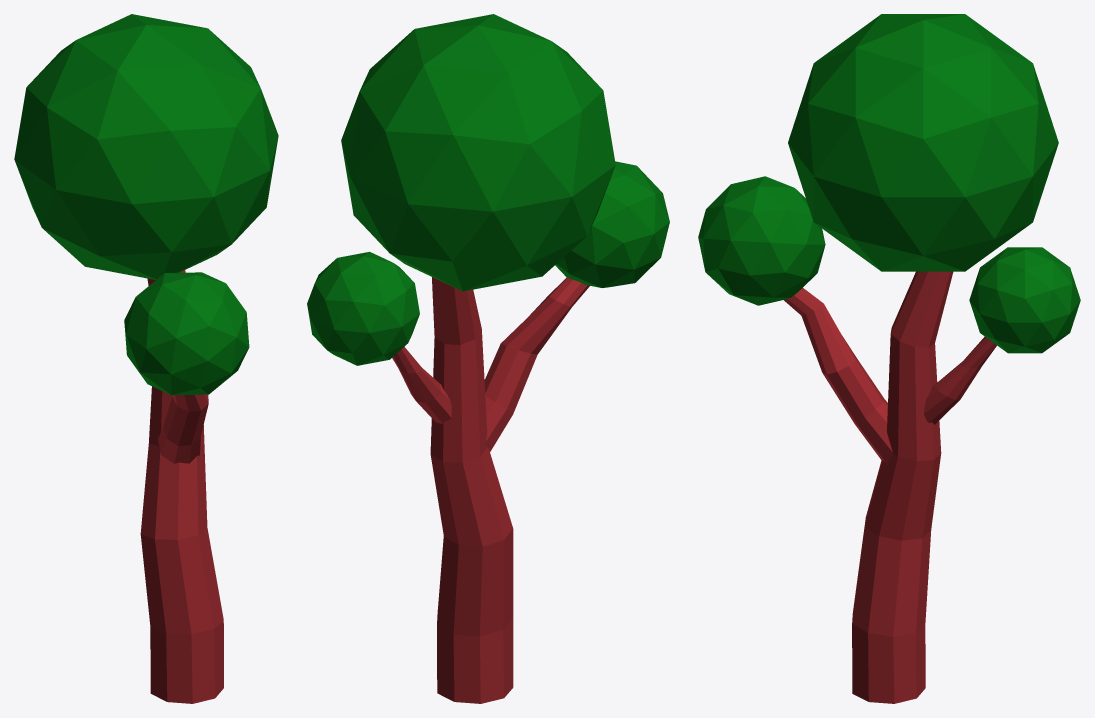
File: Tree.fbx
3 renders of one model, left to right at view 1: azimuth 30°, elevation 25°; view 2: azimuth 150°, elevation 25°; view 3: azimuth 270°, elevation 25°, orthographic. The views are drawn at different scales.
Visible parts, largest first — view 1: Tree; view 2: Tree; view 3: Tree.
Boxes of the visible parts, x1,y1,x2,y2 form: Tree: (14, 14, 278, 703); Tree: (307, 14, 669, 703); Tree: (698, 14, 1080, 703).
Size of the model in its own units: 323 by 910 by 480.
